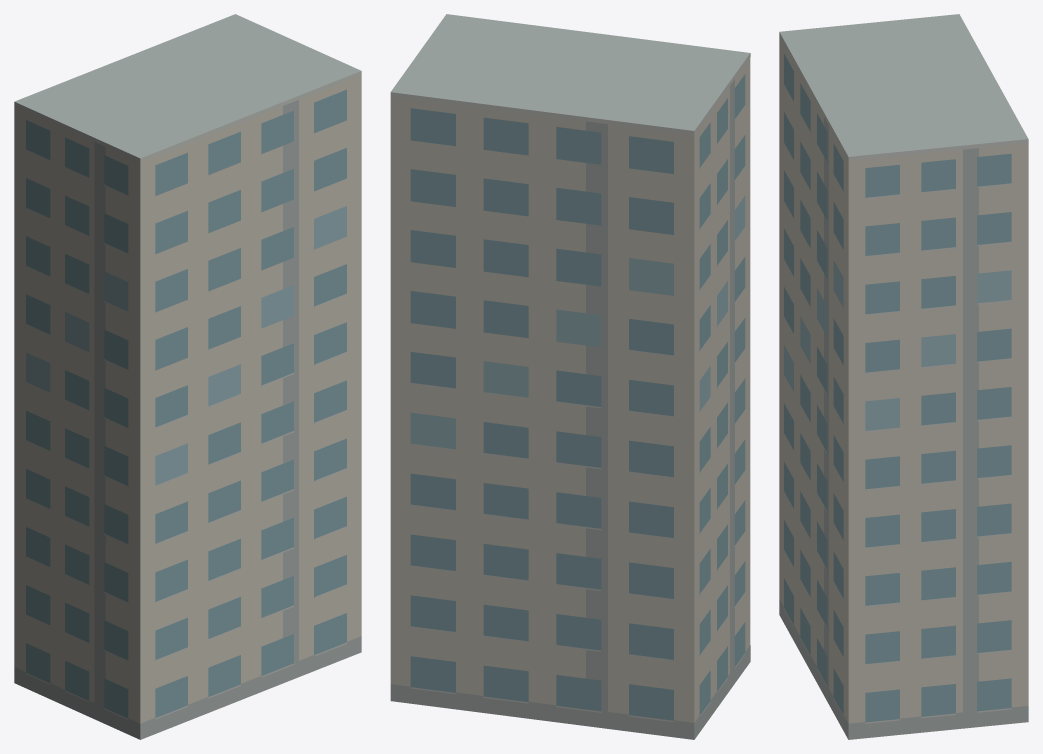
File: residential-6fb56461-b000-45ff-b754-37b8a00c2733.glb
3 views of the same model, side by side, from view 1: azimuth 30°, elevation 25°; view 2: azimuth 150°, elevation 25°; view 3: azimuth 270°, elevation 25° (orthographic). The views are drawn at different scales.
Visible parts, largest first — view 1: residential-6fb56461-b000-45ff-b754-37b8a00c2733.tmp; view 2: residential-6fb56461-b000-45ff-b754-37b8a00c2733.tmp; view 3: residential-6fb56461-b000-45ff-b754-37b8a00c2733.tmp.
Part boxes in pixels (x1,y1,x2,y2): residential-6fb56461-b000-45ff-b754-37b8a00c2733.tmp: [14, 14, 361, 739]; residential-6fb56461-b000-45ff-b754-37b8a00c2733.tmp: [390, 14, 750, 739]; residential-6fb56461-b000-45ff-b754-37b8a00c2733.tmp: [779, 14, 1028, 739].
Size of the model in its own units: 18.41 by 35 by 13.57.
